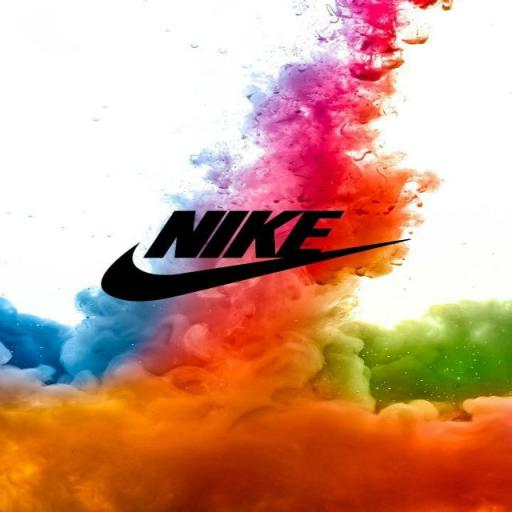Nike: (100, 252, 358, 301), (140, 211, 344, 259)
